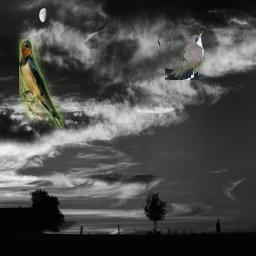Cuckoo: (165, 31, 205, 80)
Swallow: (19, 39, 64, 128)
